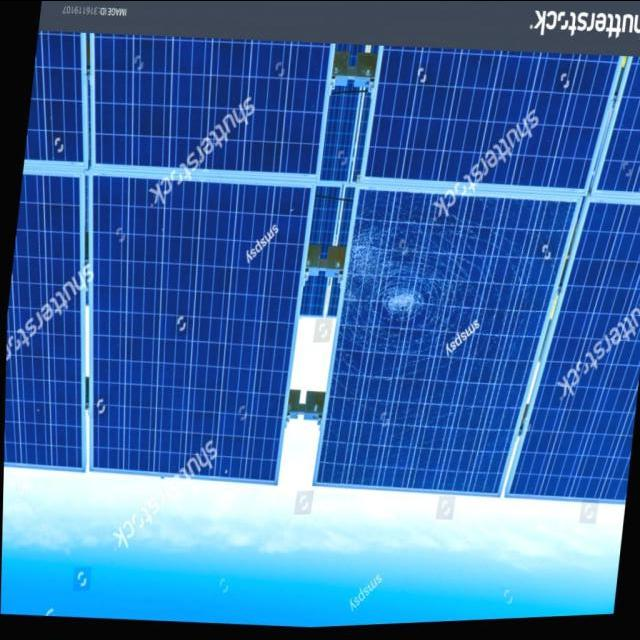cracked: (313, 196, 567, 494)
